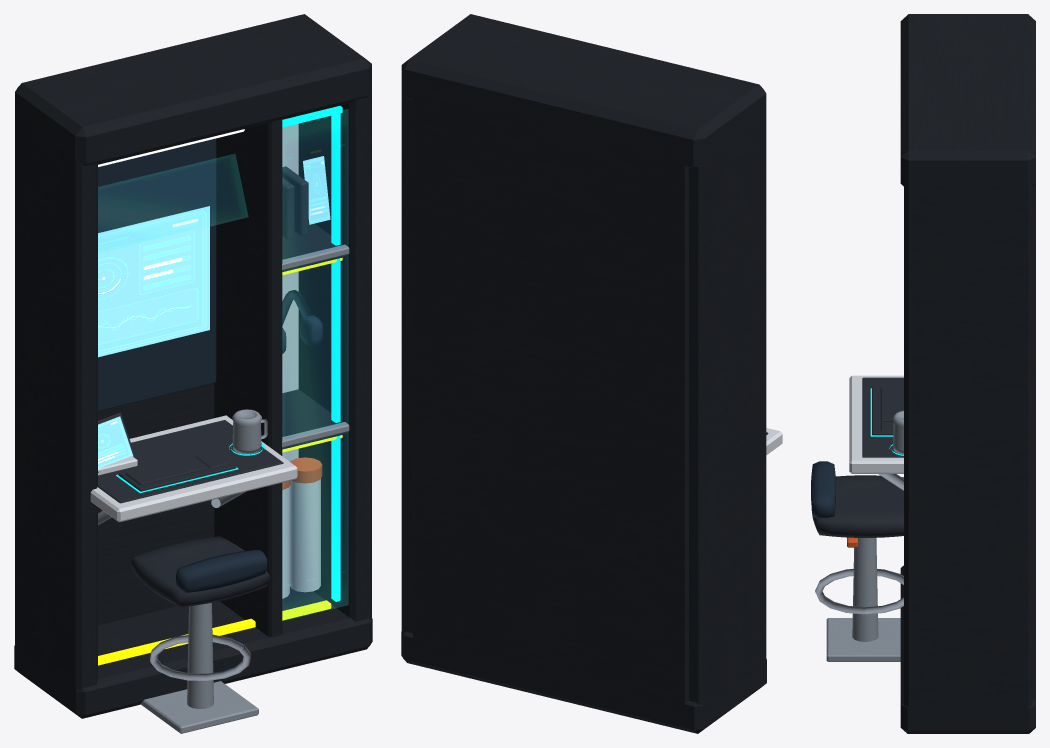
Rendered from walldesk_r1_02.glb.
3 views of the same model, side by side, from view 1: azimuth 30°, elevation 25°; view 2: azimuth 150°, elevation 25°; view 3: azimuth 270°, elevation 25° (orthographic). The views are drawn at different scales.
Visible parts, largest first — view 1: WallDesk02_SplitBayGunmetalCabinet, WallDesk02_TranslucentTowerDoorAndVisor, WallDesk02_OrbitalNavyHeadsetAndAcoustic, WallDesk02_LeftBayOLEDTerminal, WallDesk02_WhiteDeskLeafAndPowerCells, WallDesk02_MachinedStrutsMugAndStool, WallDesk02_CarbonSlateInlayAndCartridges, WallDesk02_CyanCoasterAndTowerLED, WallDesk02_CharcoalStoolSeat, WallDesk02_DualDatapadScreens, WallDesk02_AmberShelfAndToeLED, WallDesk02_SignalOrangeLatchesAndTerminals; view 2: WallDesk02_SplitBayGunmetalCabinet; view 3: WallDesk02_SplitBayGunmetalCabinet, WallDesk02_MachinedStrutsMugAndStool, WallDesk02_CharcoalStoolSeat, WallDesk02_CarbonSlateInlayAndCartridges, WallDesk02_WhiteDeskLeafAndPowerCells, WallDesk02_OrbitalNavyHeadsetAndAcoustic.
Part boxes in pixels (x1,y1,x2,y2): WallDesk02_SplitBayGunmetalCabinet: [14, 14, 372, 718]; WallDesk02_TranslucentTowerDoorAndVisor: [98, 109, 347, 620]; WallDesk02_OrbitalNavyHeadsetAndAcoustic: [98, 138, 322, 592]; WallDesk02_LeftBayOLEDTerminal: [98, 206, 209, 357]; WallDesk02_WhiteDeskLeafAndPowerCells: [90, 123, 320, 598]; WallDesk02_MachinedStrutsMugAndStool: [98, 244, 349, 733]; WallDesk02_CarbonSlateInlayAndCartridges: [97, 166, 308, 503]; WallDesk02_CyanCoasterAndTowerLED: [116, 105, 342, 601]; WallDesk02_CharcoalStoolSeat: [131, 536, 269, 607]; WallDesk02_DualDatapadScreens: [98, 156, 330, 469]; WallDesk02_AmberShelfAndToeLED: [98, 257, 342, 665]; WallDesk02_SignalOrangeLatchesAndTerminals: [282, 457, 322, 489]; WallDesk02_SplitBayGunmetalCabinet: [401, 14, 766, 733]; WallDesk02_SplitBayGunmetalCabinet: [900, 14, 1035, 733]; WallDesk02_MachinedStrutsMugAndStool: [815, 410, 903, 661]; WallDesk02_CharcoalStoolSeat: [811, 475, 903, 537]; WallDesk02_CarbonSlateInlayAndCartridges: [862, 377, 903, 457]; WallDesk02_WhiteDeskLeafAndPowerCells: [849, 375, 903, 473]; WallDesk02_OrbitalNavyHeadsetAndAcoustic: [811, 461, 835, 518].
Bounding box in the file's own units: 1.05 × 2 × 0.699.
Materials: 13 (13 with a texture image).
